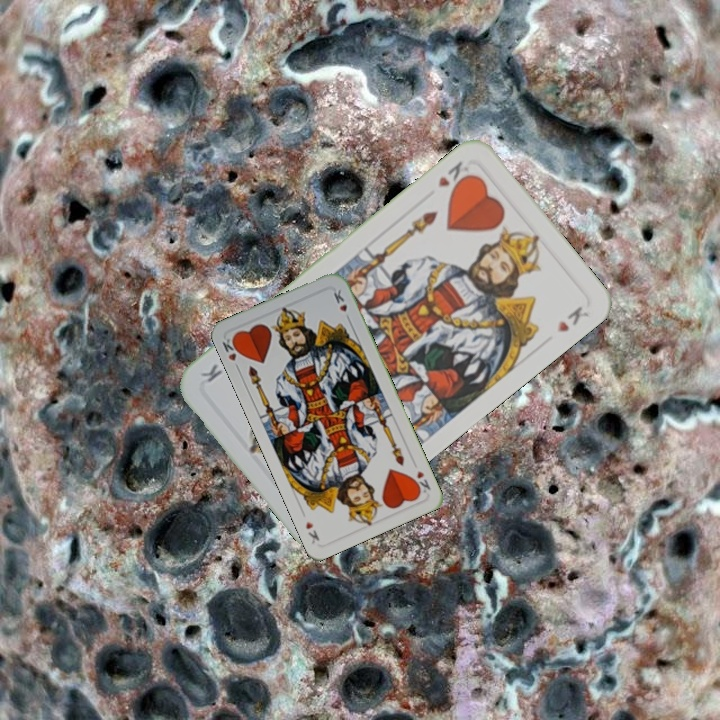HK: (433, 157, 475, 195), (218, 333, 244, 373), (409, 466, 433, 497)
